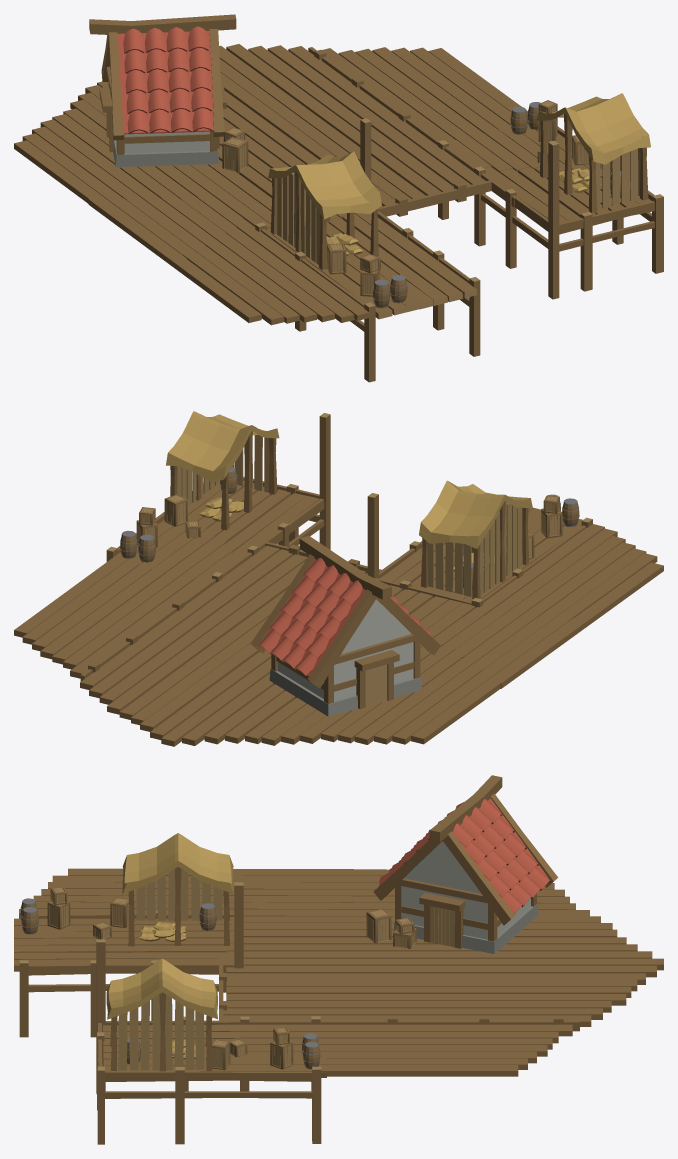
File: tilePortv2_sans_sol.glb
3 views of the same model, one above another, from view 1: azimuth 30°, elevation 25°; view 2: azimuth 150°, elevation 25°; view 3: azimuth 270°, elevation 25° (orthographic).
Visible parts, largest first — view 1: Port_FirstAge_Level1, Port_FirstAge_Level1.001, Houses_SecondAge_1_Level1.001, Cube.009, Cube.007, Cube.031, Cube.010, Cube.008, Cube.054, Cube.038, Cube.021, Cube.018 (+36 smaller); view 2: Houses_SecondAge_1_Level1.001, Port_FirstAge_Level1.001, Port_FirstAge_Level1, Cube.008, Cube.009, Cube.007, Cube.031, Cube.021, Cube.018, Cube.034, Cube.033, Cube.020 (+39 smaller); view 3: Port_FirstAge_Level1, Port_FirstAge_Level1.001, Houses_SecondAge_1_Level1.001, Cube.013, Cube.010, Cube.012, Cube.024, Cube.016, Cube.008, Cube.007, Cube.001, Cube.009 (+41 smaller).
Boxes of the visible parts, <box> form: Port_FirstAge_Level1: <box>255,118,480,382</box>; Port_FirstAge_Level1.001: <box>438,93,663,299</box>; Houses_SecondAge_1_Level1.001: <box>89,14,248,173</box>; Cube.009: <box>239,53,440,195</box>; Cube.007: <box>275,51,470,186</box>; Cube.031: <box>14,140,186,261</box>; Cube.010: <box>223,57,425,198</box>; Cube.008: <box>253,49,453,191</box>; Cube.054: <box>226,44,427,185</box>; Cube.038: <box>197,194,370,320</box>; Cube.021: <box>372,47,540,169</box>; Cube.018: <box>338,50,512,171</box>; Houses_SecondAge_1_Level1.001: <box>250,536,440,716</box>; Port_FirstAge_Level1.001: <box>106,411,330,582</box>; Port_FirstAge_Level1: <box>367,480,592,607</box>; Cube.008: <box>105,554,307,697</box>; Cube.009: <box>120,561,304,701</box>; Cube.007: <box>97,549,292,689</box>; Cube.031: <box>411,618,585,744</box>; Cube.021: <box>40,533,214,659</box>; Cube.018: <box>63,544,236,669</box>; Cube.034: <box>354,618,530,744</box>; Cube.033: <box>374,618,548,744</box>; Cube.020: <box>52,538,226,664</box>; Port_FirstAge_Level1: <box>14,833,243,1037</box>; Port_FirstAge_Level1.001: <box>96,939,326,1144</box>; Houses_SecondAge_1_Level1.001: <box>366,775,558,953</box>; Cube.013: <box>226,965,600,973</box>; Cube.010: <box>226,986,600,993</box>; Cube.012: <box>226,979,600,986</box>; Cube.024: <box>200,1065,518,1076</box>; Cube.016: <box>226,951,600,958</box>; Cube.008: <box>227,1001,600,1008</box>; Cube.007: <box>223,1008,587,1015</box>; Cube.001: <box>243,958,600,965</box>; Cube.009: <box>226,994,600,1000</box>.
Size of what is drawn, in the model's own units: 4.18 by 1.79 by 5.55.
